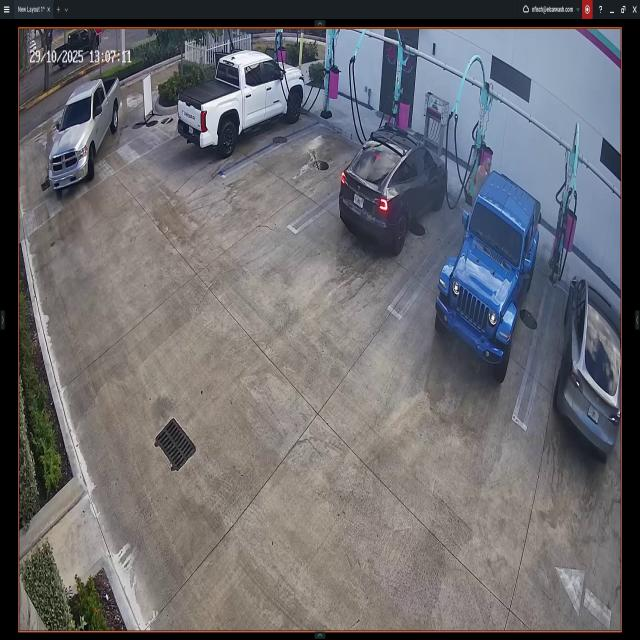Car: (437, 174, 540, 385), (341, 121, 448, 252), (177, 54, 303, 152), (557, 271, 620, 455), (50, 80, 122, 199)
